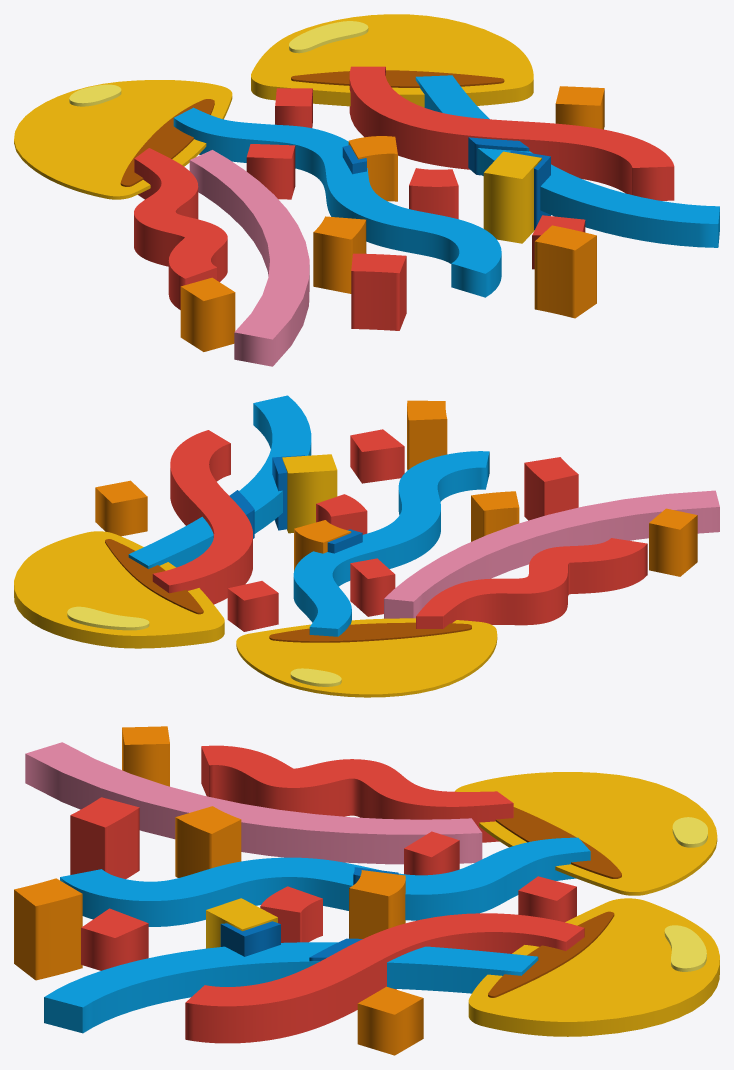
The model's file is emoji_u1f38a.glb.
3 views of the same model, one above another, from view 1: azimuth 30°, elevation 25°; view 2: azimuth 150°, elevation 25°; view 3: azimuth 270°, elevation 25° (orthographic). The views are drawn at different scales.
Parts seen in each view (by area): view 1: emoji_u1f38a; view 2: emoji_u1f38a; view 3: emoji_u1f38a.
Part boxes in pixels (left/top/right/bottom): emoji_u1f38a: left=14, top=14, right=719, bottom=366; emoji_u1f38a: left=14, top=395, right=719, bottom=697; emoji_u1f38a: left=14, top=726, right=719, bottom=1055.
Size of the model in its own units: 0.0325 by 0.004 by 0.0345.
